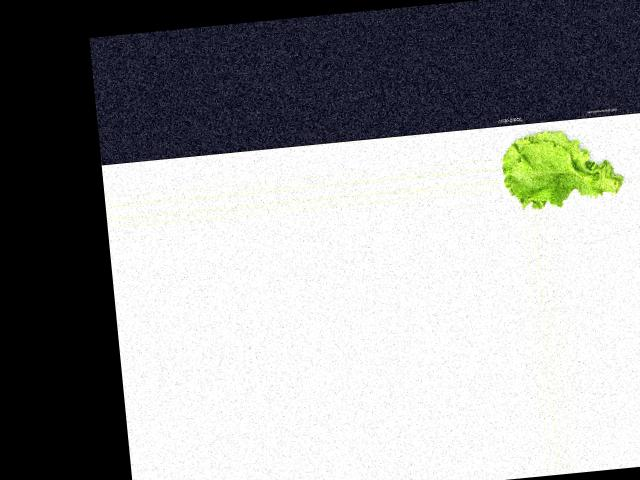lettuce: (498, 118, 623, 213)
